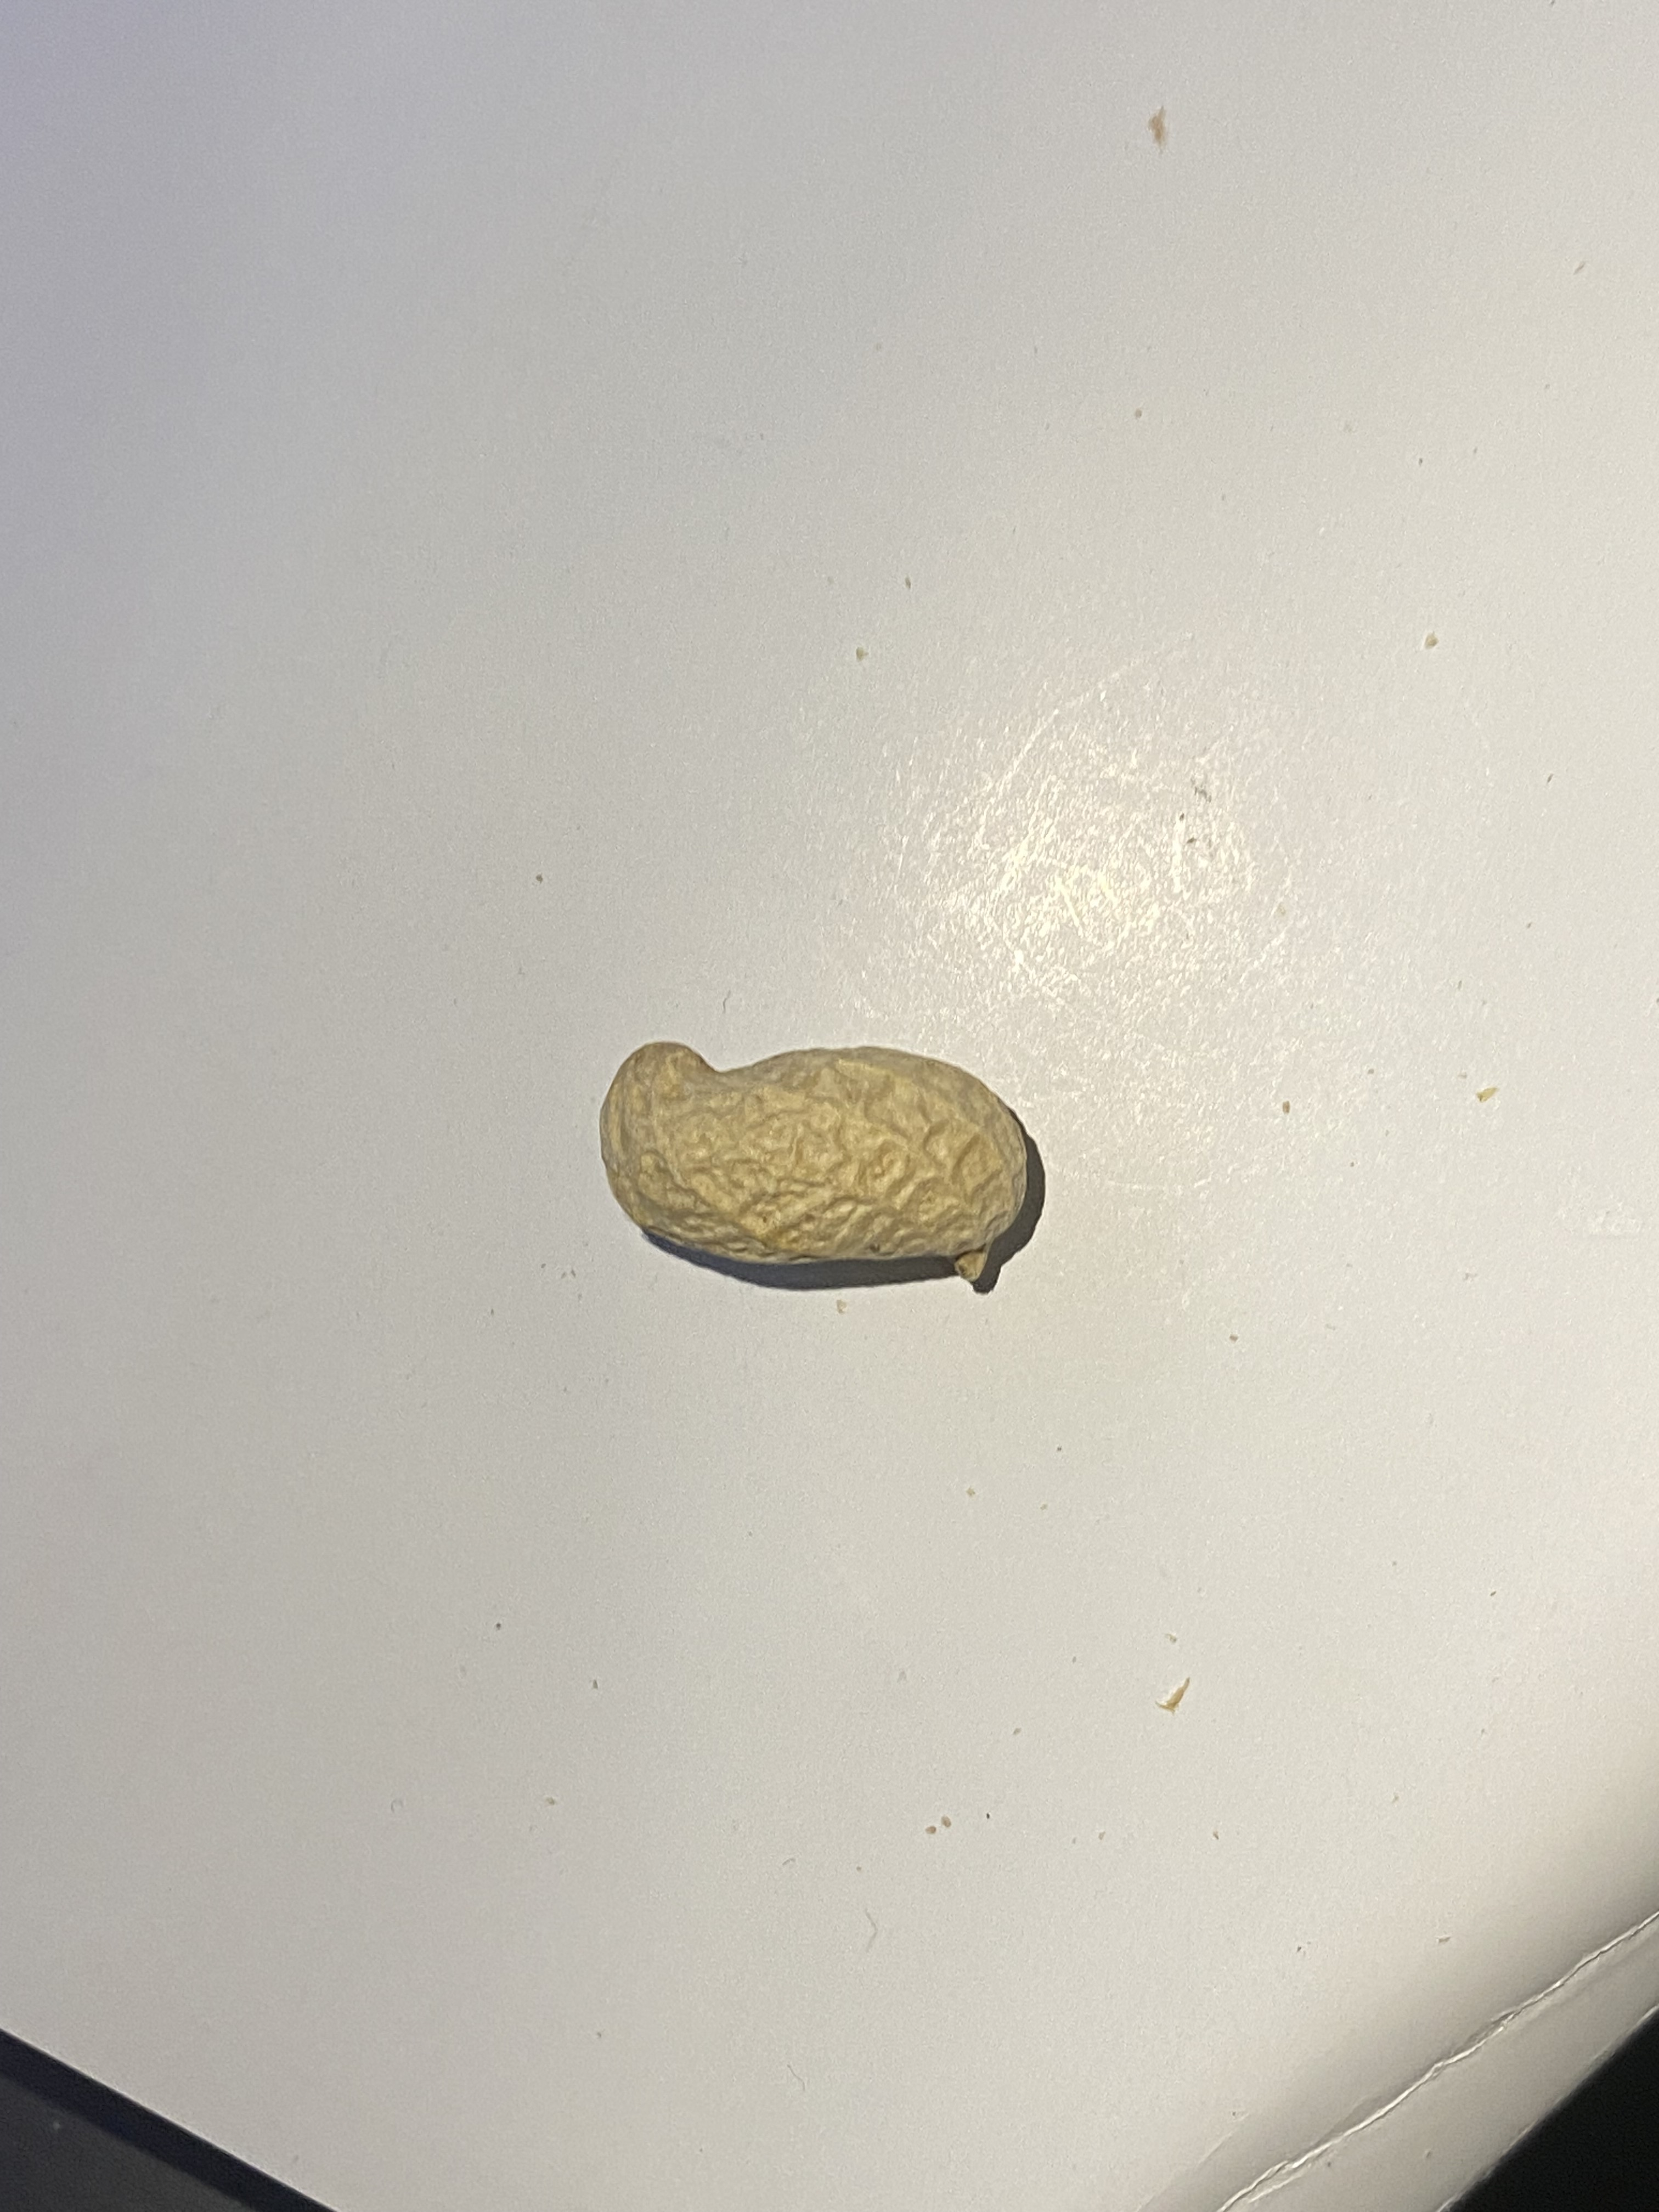kacang1: (563, 989, 1065, 1322)
